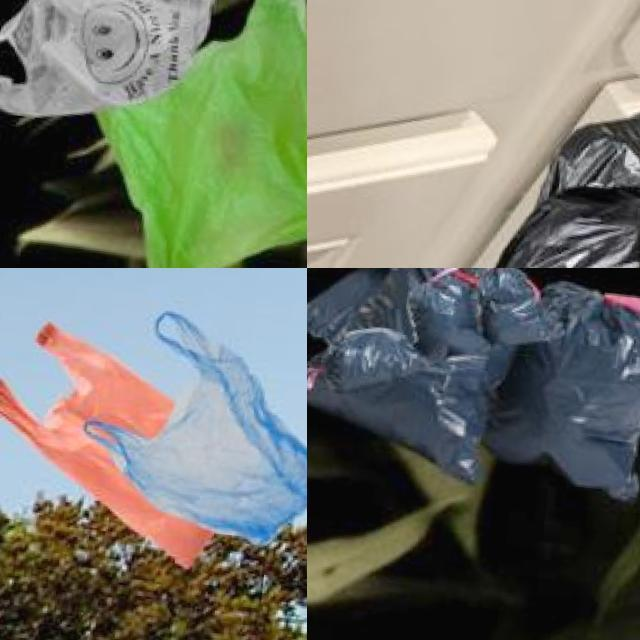waste: (0, 315, 235, 566), (78, 297, 307, 547), (103, 0, 307, 268), (307, 268, 504, 461), (495, 272, 640, 500), (533, 9, 640, 268), (9, 0, 223, 121), (439, 174, 640, 268)
